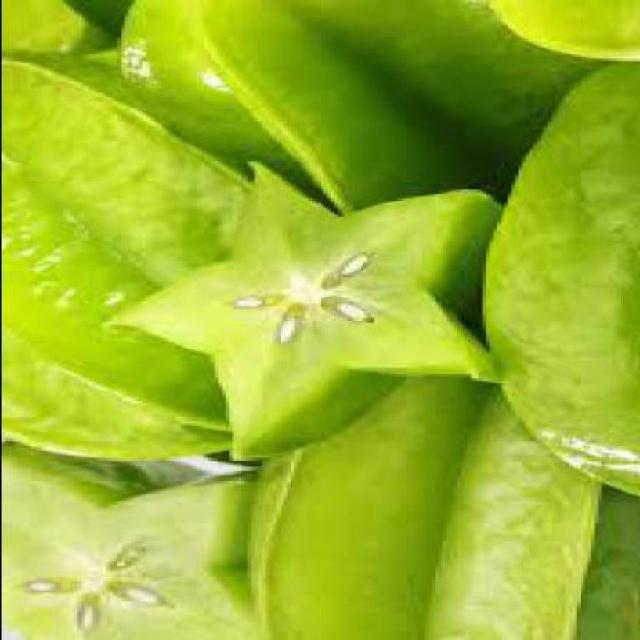BIODEGRADABLE: (98, 155, 502, 460), (1, 50, 274, 458), (257, 345, 637, 638), (116, 0, 535, 223), (474, 58, 637, 496), (2, 442, 260, 638), (477, 0, 637, 62), (1, 0, 112, 55)
